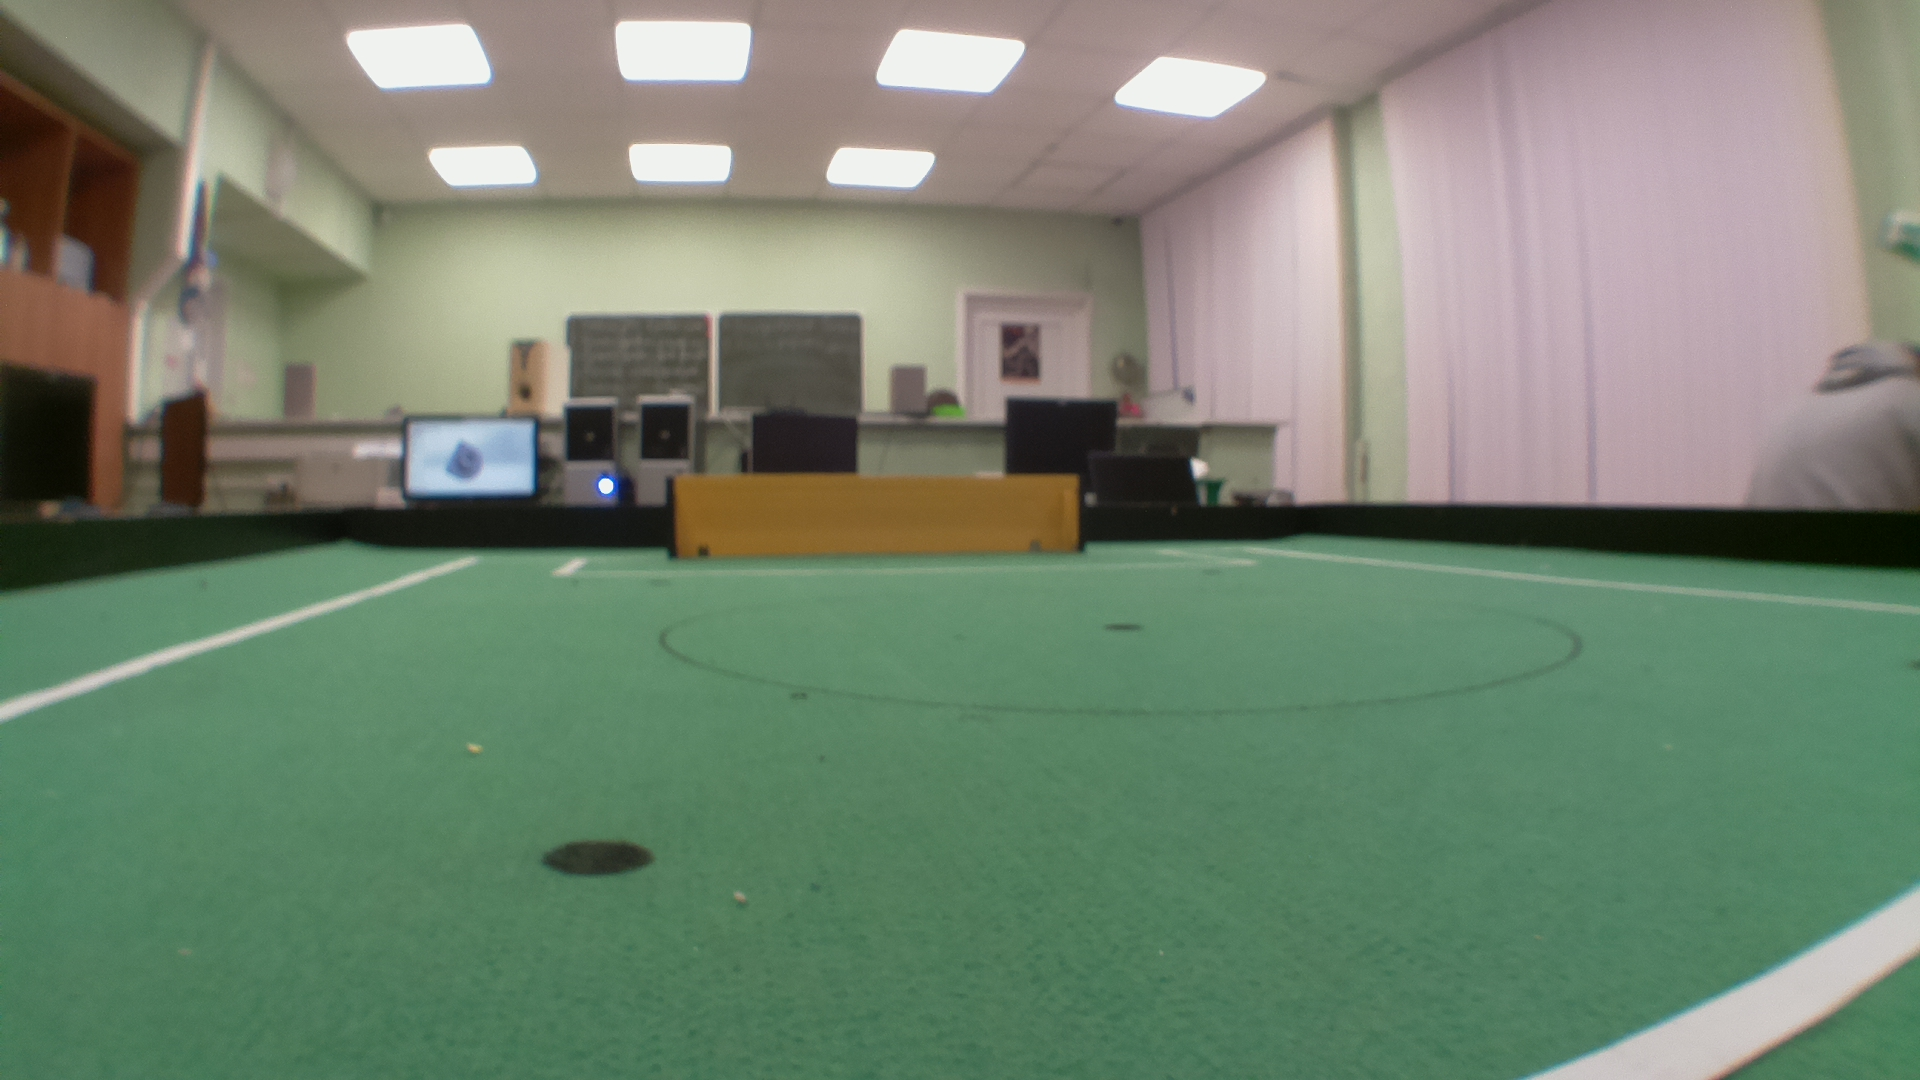YellowGoal: (675, 476, 1076, 556)
